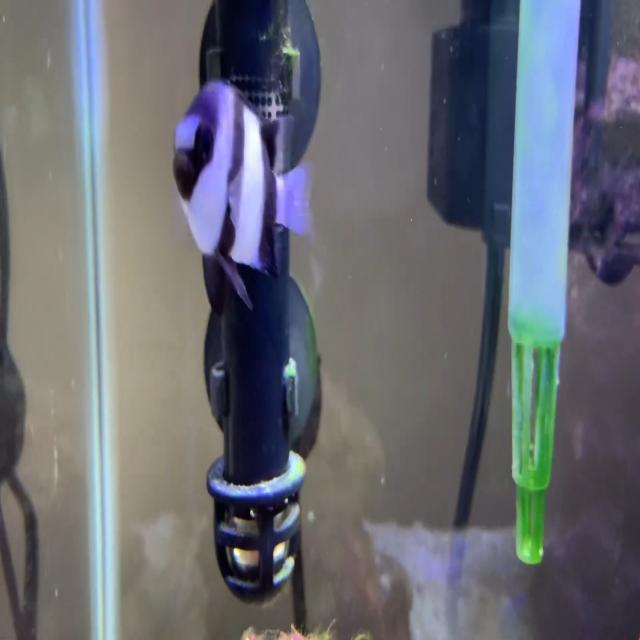ThreeStripedDamselfish: (173, 79, 307, 311)
